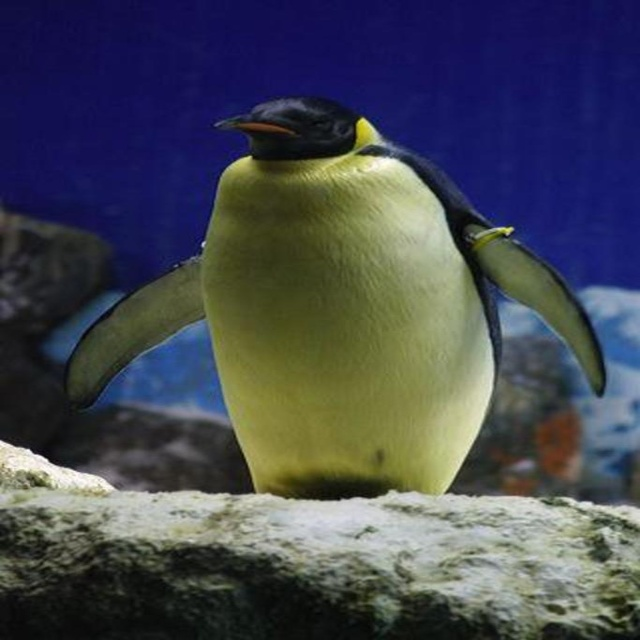Penguin: (64, 96, 608, 501)
